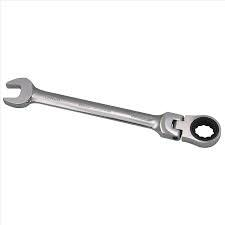wrench: (0, 76, 222, 148)
